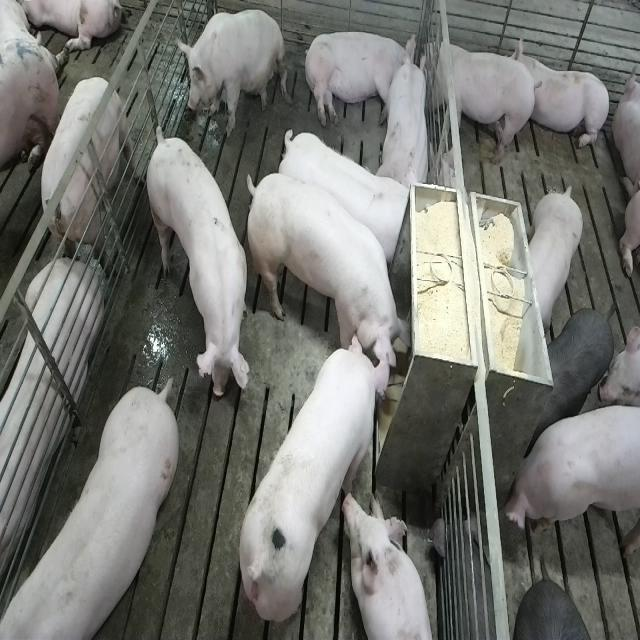Feeding: (237, 332, 397, 625), (250, 170, 417, 378)
Lateral_lying: (301, 28, 418, 129)
Sitting: (173, 7, 287, 139)
Standing: (0, 383, 176, 640), (144, 129, 247, 410), (32, 76, 134, 280), (505, 399, 639, 547), (278, 124, 410, 260), (422, 31, 538, 168), (531, 304, 611, 446), (526, 184, 588, 335)
Sternal_lying: (0, 259, 100, 598), (346, 491, 437, 640), (514, 33, 612, 155), (378, 51, 433, 193)
